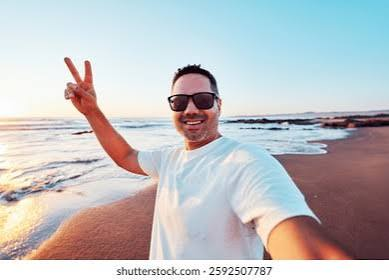peace_sign: (60, 51, 106, 113)
